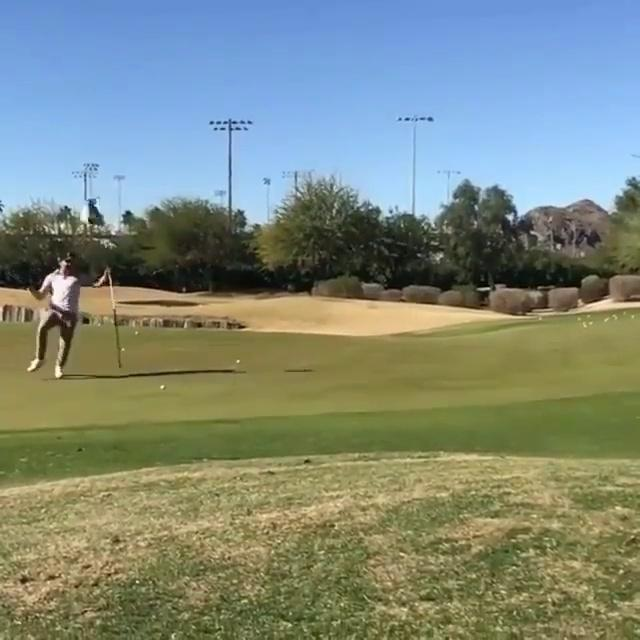golf ball: (236, 359, 240, 363), (121, 347, 125, 351), (160, 385, 165, 388), (135, 331, 138, 334)
golf club-handle: (103, 266, 120, 368)
golf club-head: (103, 268, 114, 275)
